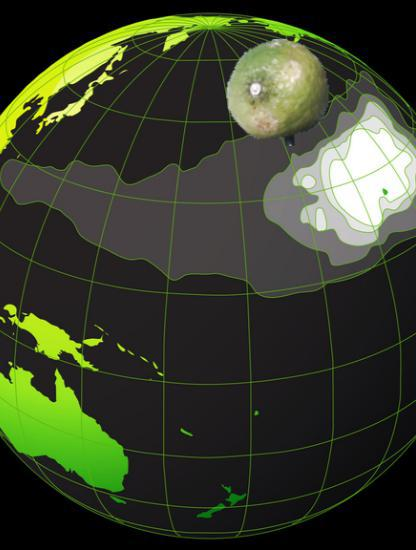Limes: (224, 39, 332, 147)
